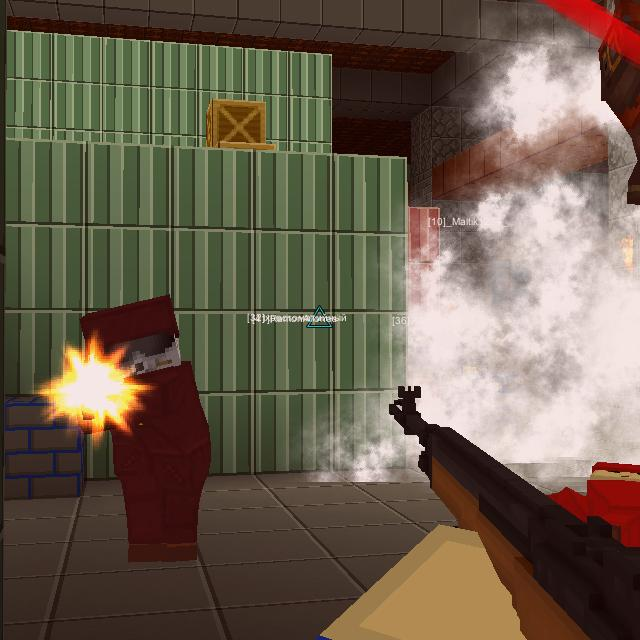enemy: (79, 281, 214, 571)
